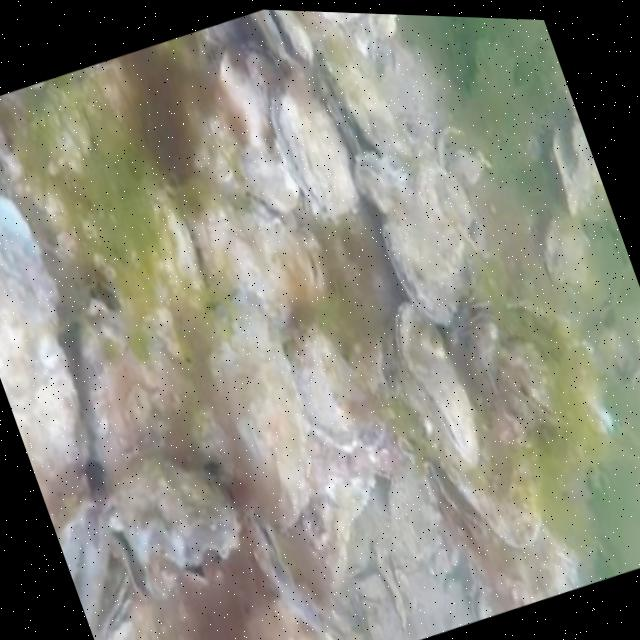Oyster-Closed: (395, 300, 480, 469), (248, 515, 355, 640), (386, 163, 466, 321), (270, 84, 356, 218), (290, 325, 377, 451), (101, 570, 133, 637), (304, 249, 325, 296)
Oyster-Indeterminate: (199, 289, 307, 527), (445, 467, 578, 602), (545, 211, 593, 284), (242, 150, 302, 208), (447, 154, 484, 184)
Oyster-Open: (399, 362, 542, 545), (0, 191, 82, 501), (101, 457, 238, 566), (323, 49, 405, 163), (550, 84, 612, 220), (61, 497, 110, 632), (250, 10, 312, 77), (356, 153, 409, 212)
